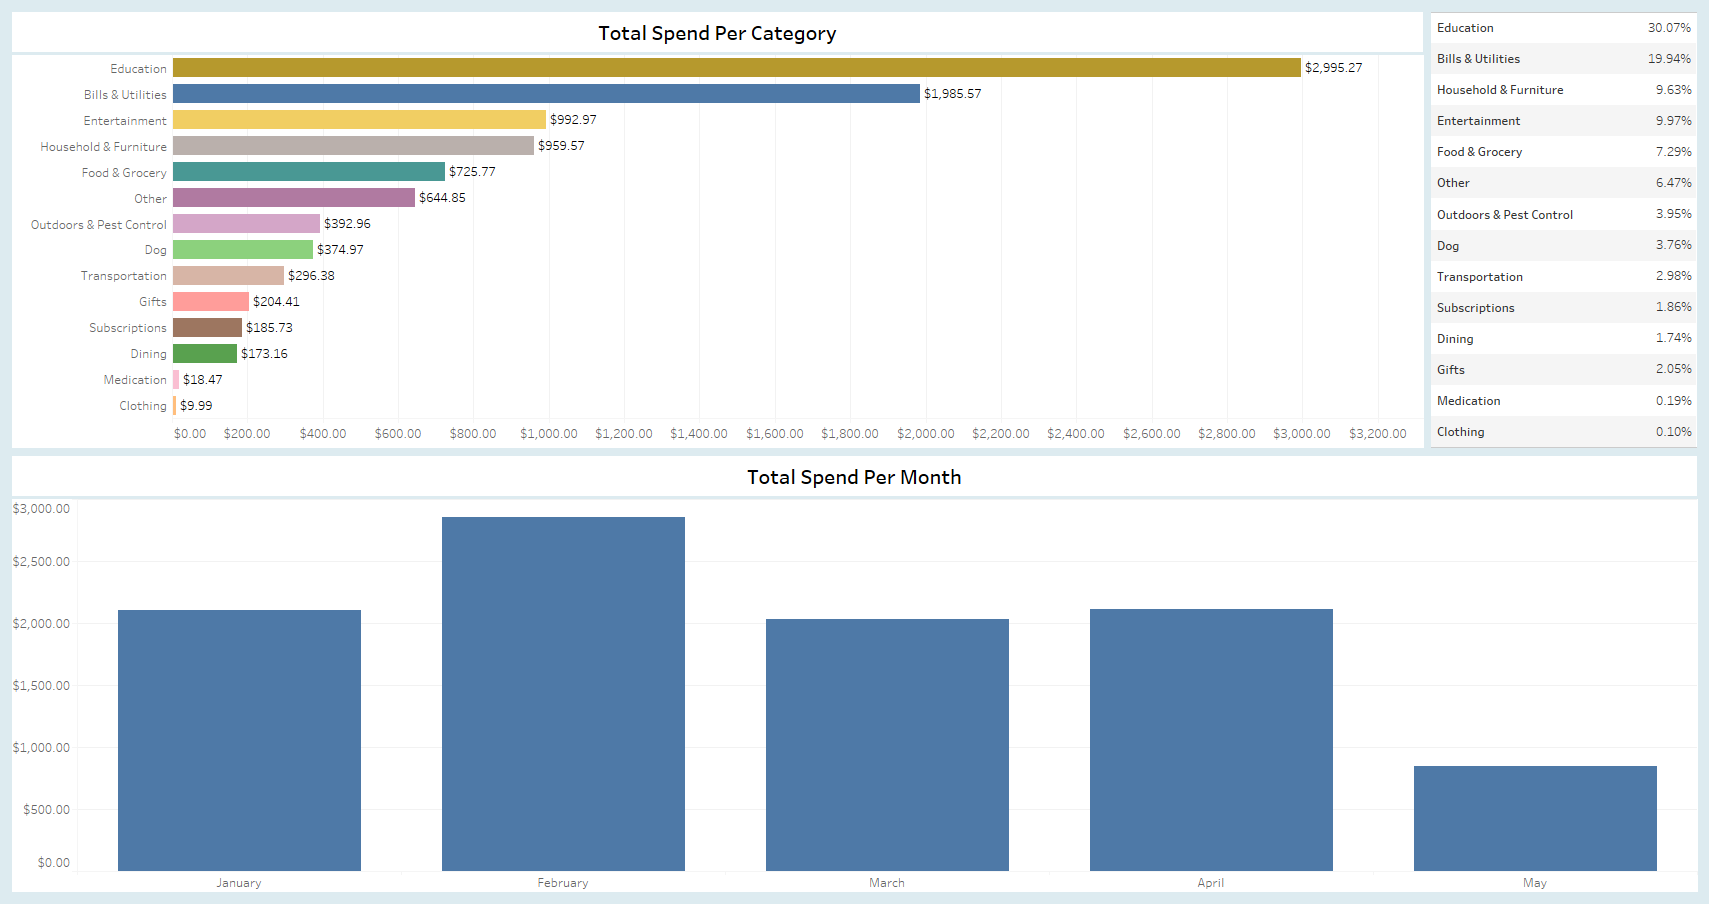

The page's visual inventory and layout, read from the dashboard file:
{"tool":"tableau","page":{"name":"Dashboard 1","canvas":[1000,1000],"units":"permille","ordinal":0},"visuals":[{"type":"worksheet","title":"Spending Per Category","mark":"Automatic","rows":["Category"],"cols":["Amount"],"box":[4.7,8.8,830.3,491.2]},{"type":"worksheet","title":"Percentage of Total Spending Per Category","mark":"Automatic","rows":["Category"],"box":[835,8.8,160.3,491.2]},{"type":"worksheet","title":"Total Spending Per Month","mark":"Bar","rows":["Amount"],"cols":["Date"],"box":[4.7,500,990.6,491.2]}]}

Visuals, with their boxes on the dashboard's canvas, which has no fixed pixel size, in thousandths of its width and height (x1, y1, x2, y2). These are canvas units, not pixel positions in the 1709x904 screenshot, which may show the page scaled, cropped or inside an application window:
"Spending Per Category" worksheet: box(5, 9, 835, 500)
"Percentage of Total Spending Per Category" worksheet: box(835, 9, 995, 500)
"Total Spending Per Month" worksheet (Bar marks): box(5, 500, 995, 991)
